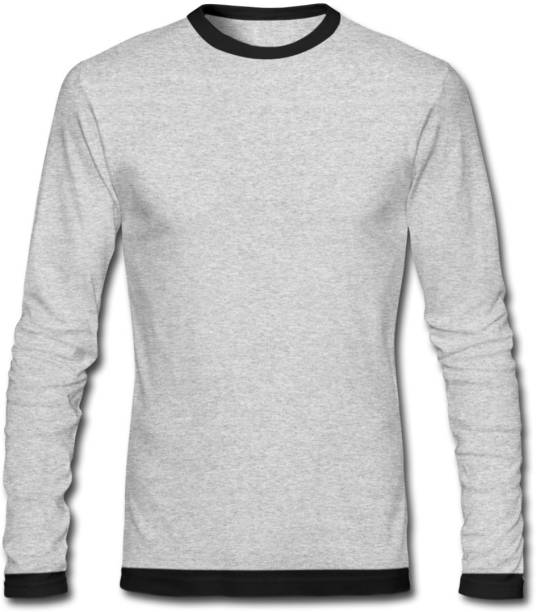T-Shirt: (5, 1, 528, 603)
